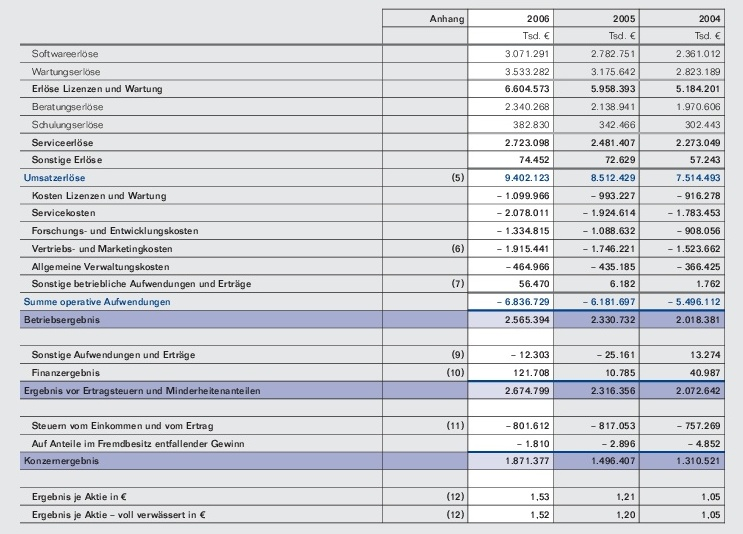table: (0, 0, 743, 534)
